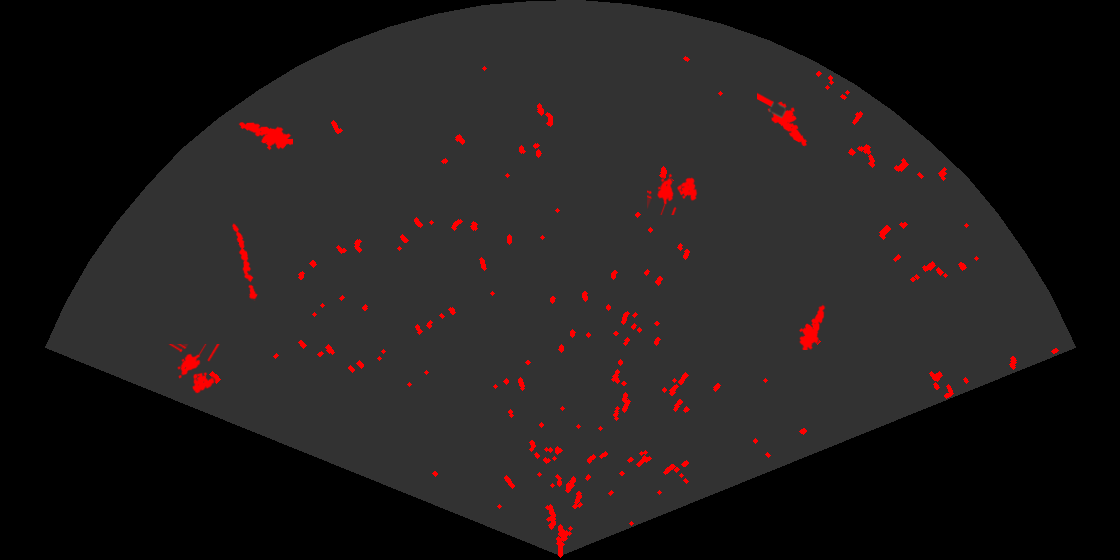cage: (167, 344, 221, 395), (647, 172, 699, 215)
chain: (231, 221, 259, 301)
frogman: (757, 91, 809, 148), (238, 121, 293, 152), (798, 303, 827, 350)
